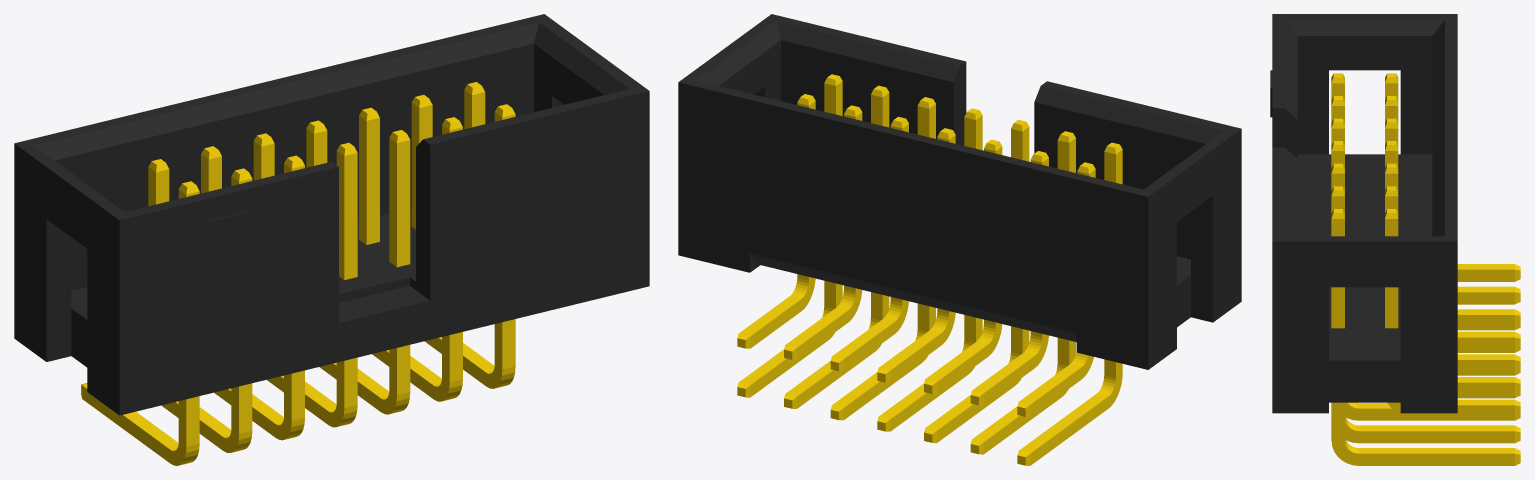
Rendered from DS1013-14R (IDC-14R CONNFLY).obj.
3 renders of one model, left to right at view 1: azimuth 30°, elevation 25°; view 2: azimuth 150°, elevation 25°; view 3: azimuth 270°, elevation 25°, orthographic. The views are drawn at different scales.
Parts seen in each view (by area): view 1: DS1013-14R_(IDC-14R_CONNFLY); view 2: DS1013-14R_(IDC-14R_CONNFLY); view 3: DS1013-14R_(IDC-14R_CONNFLY).
Boxes of the visible parts, bbox=[...] form: DS1013-14R_(IDC-14R_CONNFLY): bbox=[14, 14, 649, 465]; DS1013-14R_(IDC-14R_CONNFLY): bbox=[678, 14, 1241, 465]; DS1013-14R_(IDC-14R_CONNFLY): bbox=[1270, 14, 1520, 465].
Bounding box in the file's own units: 0.0233 × 0.0128 × 0.0108.
